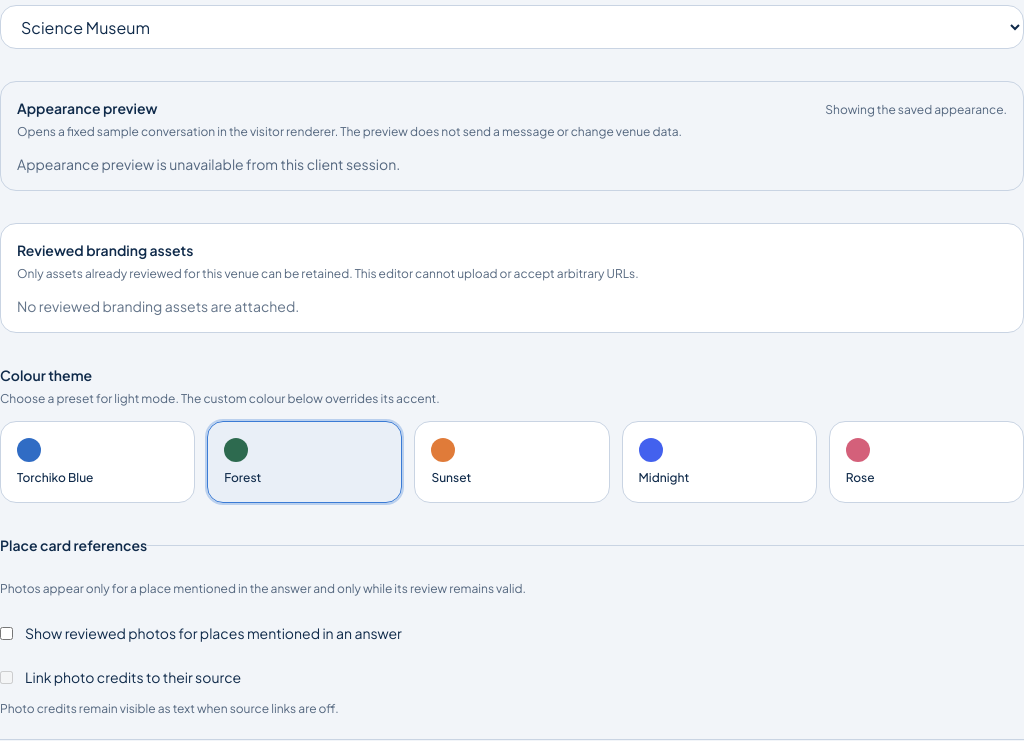
Test case: ChatDesignForm › submits an exact venue-scoped design payload and exposes selected states
The width and height of the screenshot is (1024, 741).
Click the button "Sunset" at (512, 462), box [414,421,610,503]
(page scrolled)
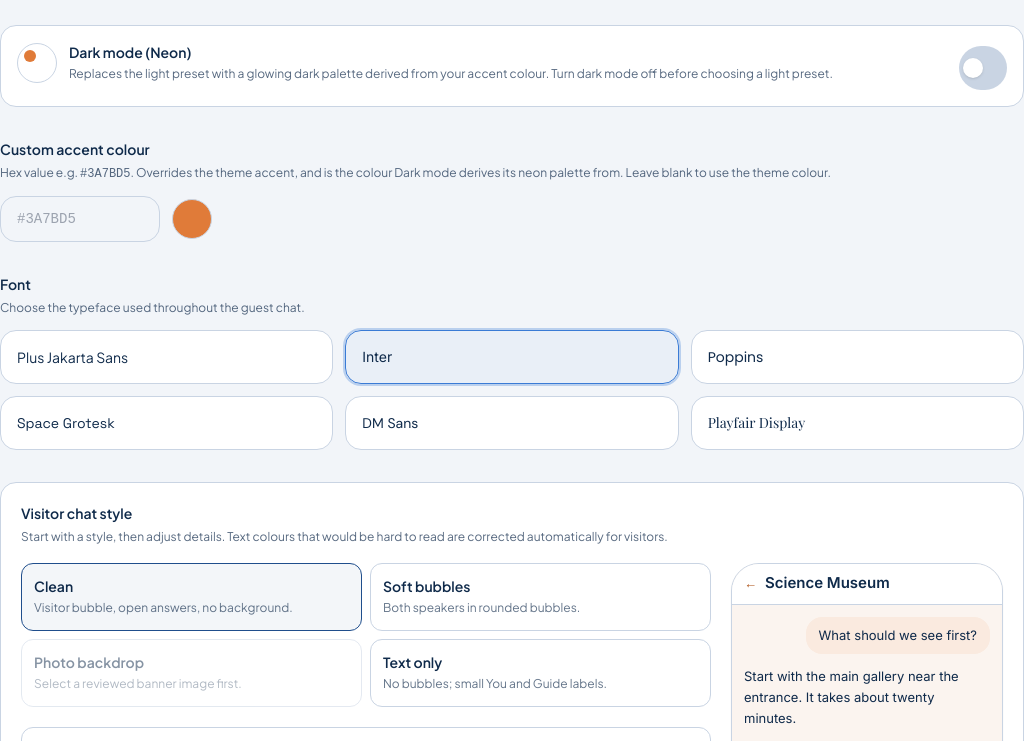
Click the button "Poppins" at (736, 357), box [691,330,1023,384]
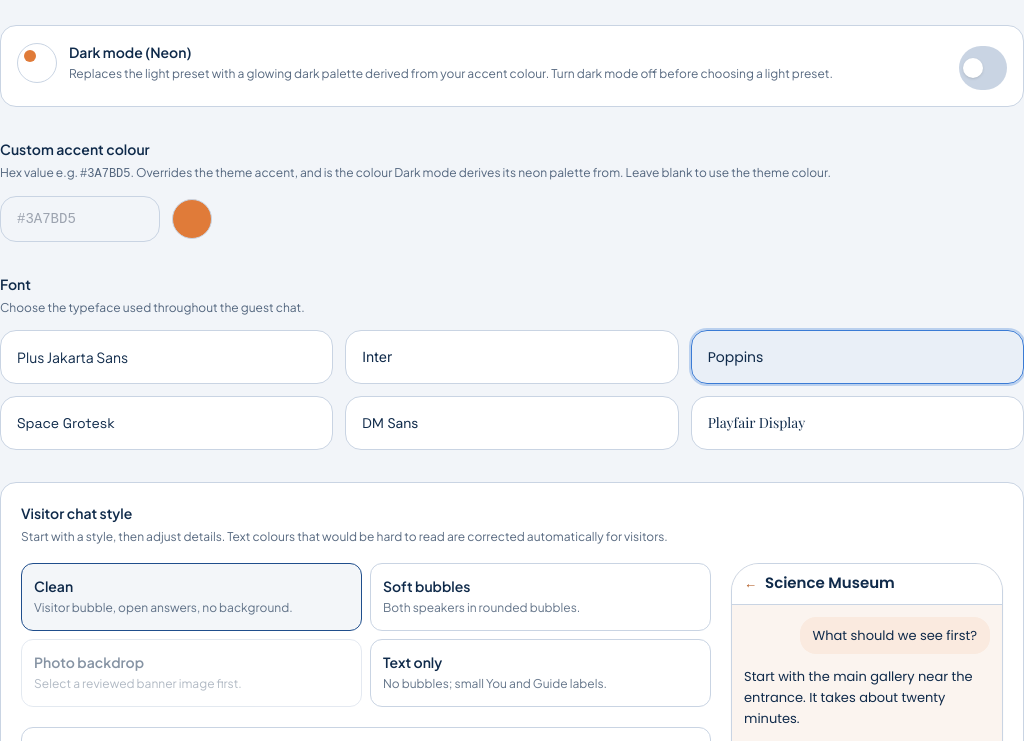
Type "#ABCDEF" into the field labelled "Custom accent colour" at (80, 219), box [0,196,160,242]
(page scrolled)
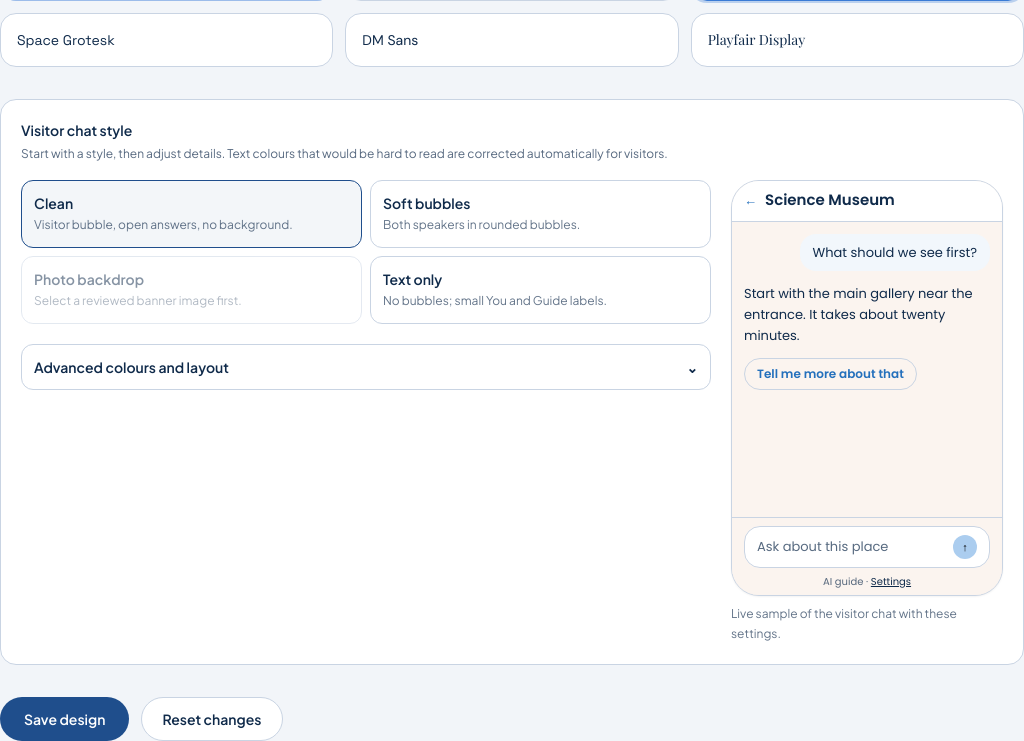
Click the button "Save design" at (65, 719), box [0,697,129,740]
(page scrolled)
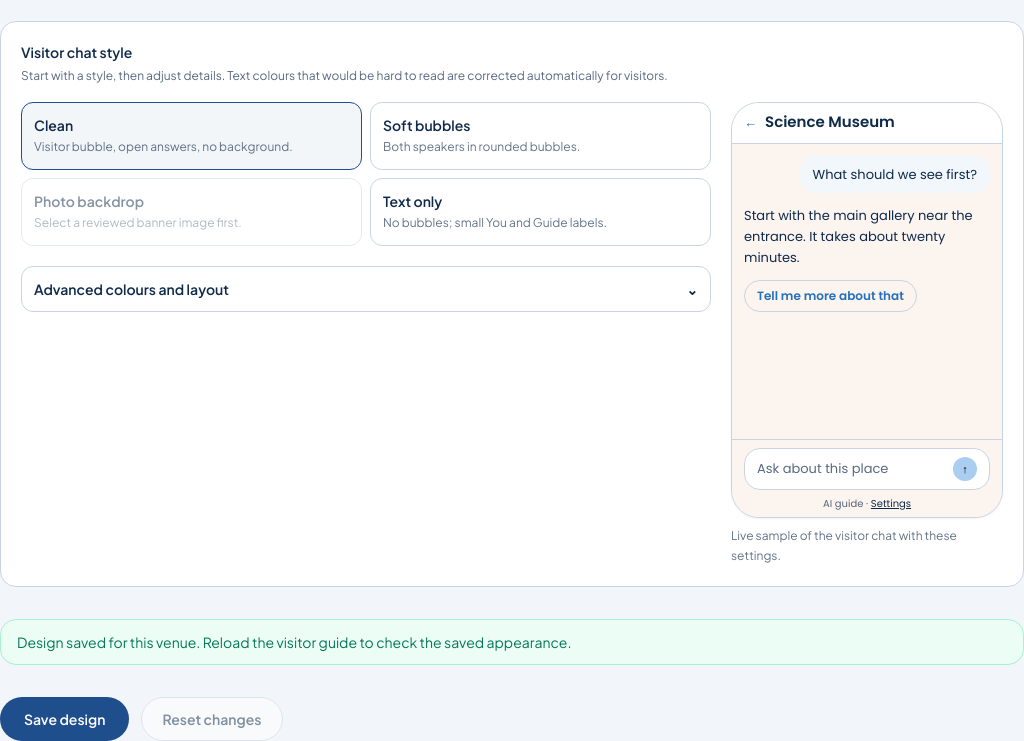
Check: the message shows "Design saved", box [17,633,571,651]
